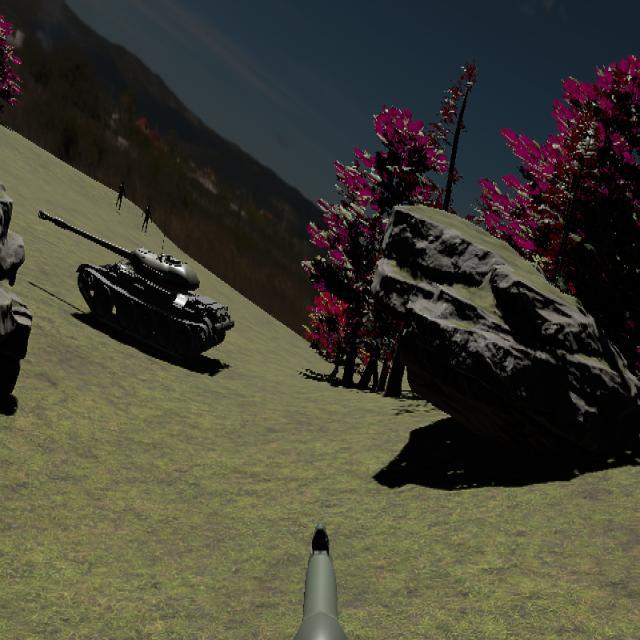Tank: (36, 210, 235, 361)
